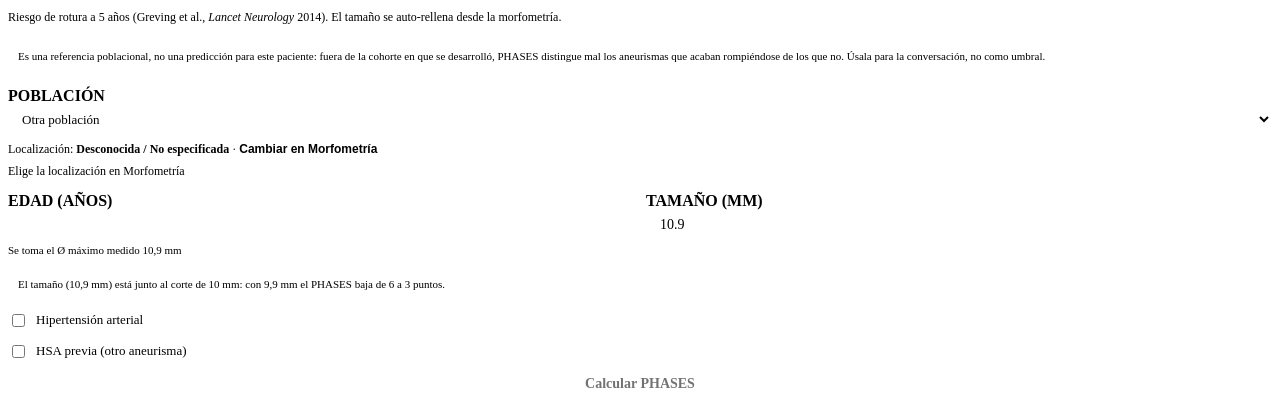
Test case: PHASES con el tamaño escrito a mano › deja de decir que toma el Ø medido
The image size is (1280, 405).
Replace the text in the number field labelled "Tamaño (mm)" with "8" at (959, 224), box [658,216,1260,234]
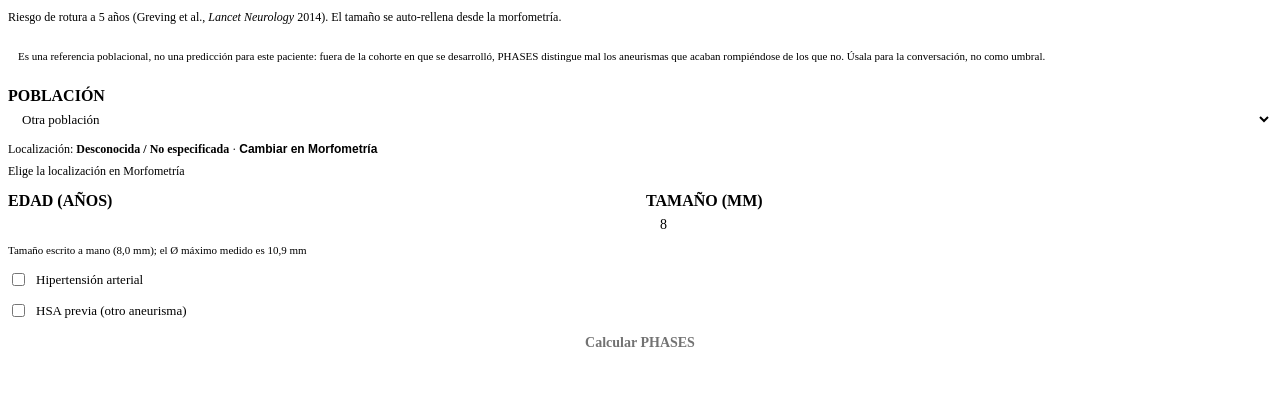
Expected: the text "Tamaño escrito a mano (8,0 mm); el Ø máximo medido es 10,9 mm" is shown, [8,244,307,256]
Expected: the text "Se toma el Ø máximo" is gone
